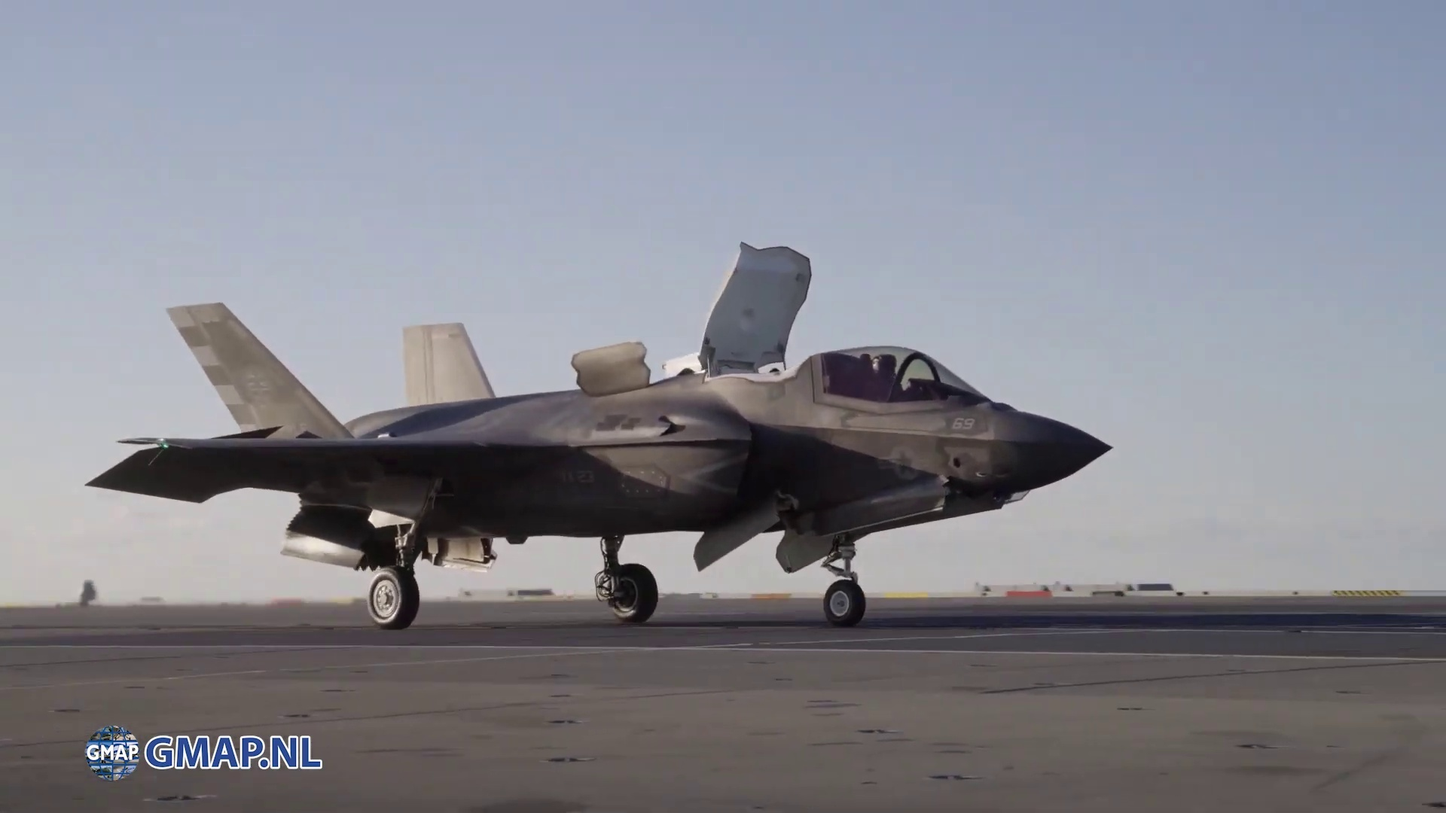F35: (78, 236, 1119, 636)
